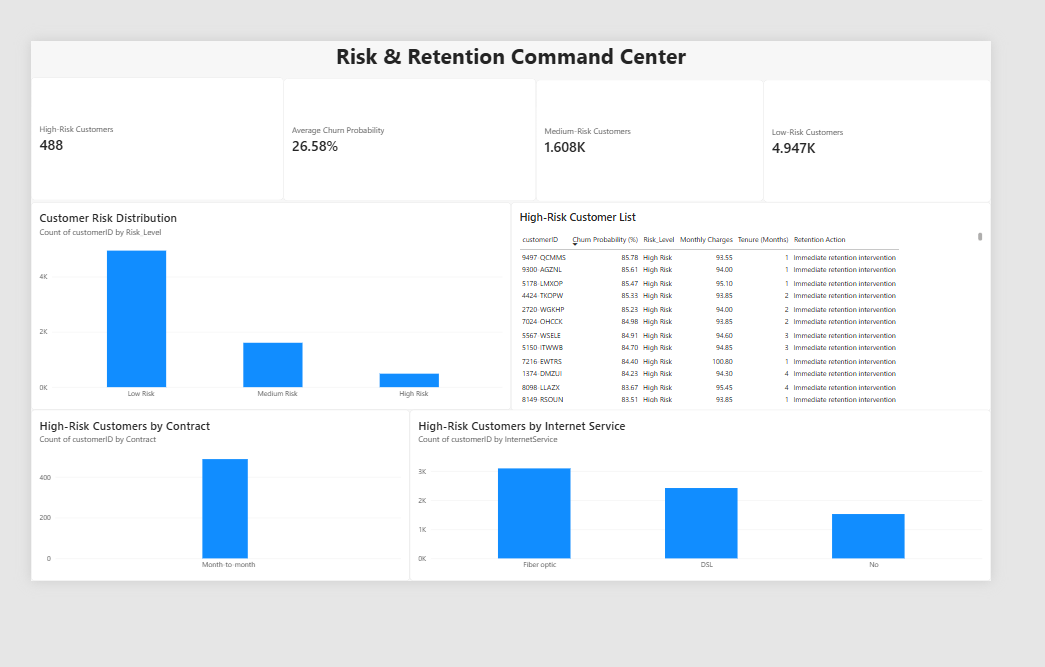

This screenshot's page, from the dashboard's own definition file:
{"tool":"powerbi","page":{"name":"Risk & Retention","canvas":[1920,1080],"ordinal":2},"visuals":[{"type":"cardVisual","fields":{"Data":["CountNonNull(customer_churn_scoring.customerID)"]},"box":[0,72.5,505,246.7],"z":0},{"type":"cardVisual","fields":{"Data":["Avg(customer_churn_scoring.Churn_Probability)"]},"box":[505,75,505,245],"z":1},{"type":"cardVisual","fields":{"Data":["CountNonNull(customer_churn_scoring.customerID)"]},"box":[1010,77.5,455,243.3],"z":2},{"type":"cardVisual","fields":{"Data":["CountNonNull(customer_churn_scoring.customerID)"]},"box":[1465,77.5,455,245],"z":3},{"type":"clusteredColumnChart","title":"Customer Risk Distribution","fields":{"Category":["customer_churn_scoring.Risk_Level"],"Y":["CountNonNull(customer_churn_scoring.customerID)"]},"box":[0,322.5,960,415],"z":4},{"type":"tableEx","title":"High-Risk Customer List","fields":{"Values":["customer_churn_scoring.customerID","customer_churn_scoring.Churn_Probability_percent","customer_churn_scoring.Risk_Level","customer_churn_scoring.MonthlyCharges","customer_churn_scoring.tenure","customer_churn_scoring.Retention_Action"]},"box":[960,322.5,960,417.5],"z":5},{"type":"clusteredColumnChart","title":"High-Risk Customers by Contract","fields":{"Category":["customer_churn_scoring.Contract"],"Y":["CountNonNull(customer_churn_scoring.customerID)"]},"box":[0,737.5,757.5,342.5],"z":6},{"type":"clusteredColumnChart","title":"High-Risk Customers by Internet Service","fields":{"Category":["customer_churn_scoring.InternetService"],"Y":["CountNonNull(customer_churn_scoring.customerID)"]},"box":[757.5,737.5,1162.5,342.5],"z":7},{"type":"textbox","box":[0,0,1920,72.5],"z":8}]}

Visuals, with their boxes on the page's 1920x1080 design canvas (x1, y1, x2, y2). These are canvas units, not pixel positions in the 1045x667 screenshot, which may show the page scaled, cropped or inside an application window:
cardVisual - CountNonNull(customer_churn_scoring.customerID): x1=0, y1=72, x2=505, y2=319
cardVisual - Avg(customer_churn_scoring.Churn_Probability): x1=505, y1=75, x2=1010, y2=320
cardVisual - CountNonNull(customer_churn_scoring.customerID): x1=1010, y1=78, x2=1465, y2=321
cardVisual - CountNonNull(customer_churn_scoring.customerID): x1=1465, y1=78, x2=1920, y2=322
"Customer Risk Distribution" clusteredColumnChart: x1=0, y1=322, x2=960, y2=738
"High-Risk Customer List" tableEx: x1=960, y1=322, x2=1920, y2=740
"High-Risk Customers by Contract" clusteredColumnChart: x1=0, y1=738, x2=758, y2=1080
"High-Risk Customers by Internet Service" clusteredColumnChart: x1=758, y1=738, x2=1920, y2=1080
textbox: x1=0, y1=0, x2=1920, y2=72
